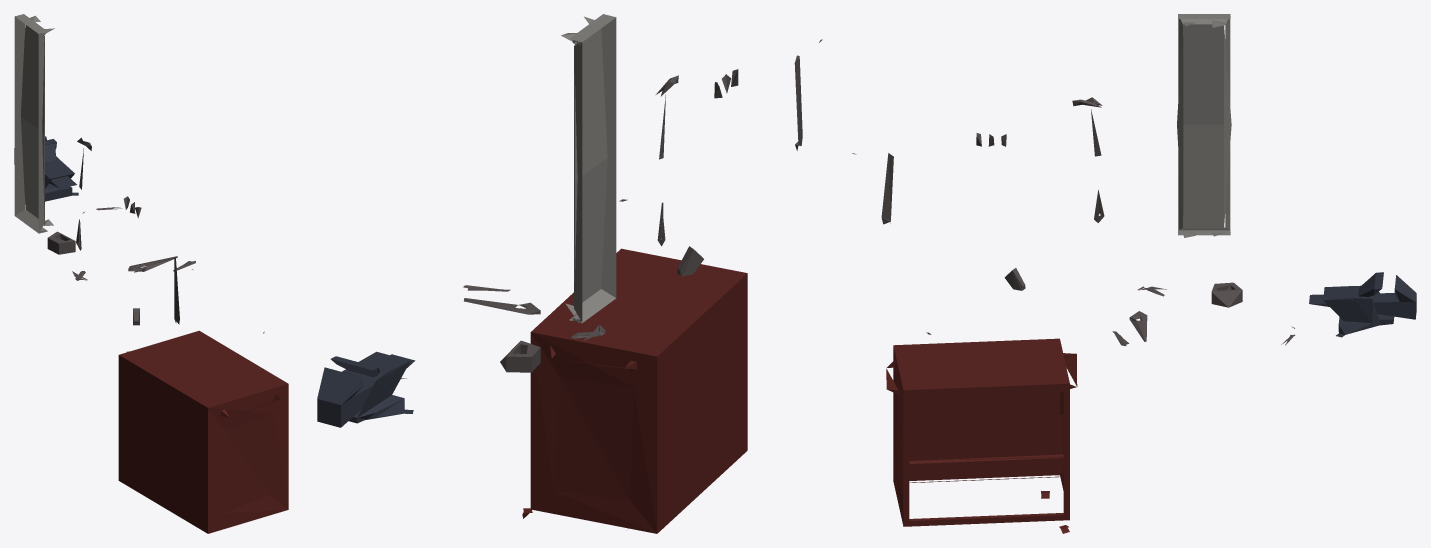
File: workbench.lod1.glb
3 renders of one model, left to right at view 1: azimuth 30°, elevation 25°; view 2: azimuth 150°, elevation 25°; view 3: azimuth 270°, elevation 25°, orthographic. The views are drawn at different scales.
Parts seen in each view (by area): view 1: Light_Fixture_Base_low_Mat_Light_Fixture_0; view 2: Light_Fixture_Base_low_Mat_Light_Fixture_0; view 3: Light_Fixture_Base_low_Mat_Light_Fixture_0.
Part boxes in pixels (x1,y1,x2,y2): Light_Fixture_Base_low_Mat_Light_Fixture_0: (14,14,288,533); Light_Fixture_Base_low_Mat_Light_Fixture_0: (317,14,822,533); Light_Fixture_Base_low_Mat_Light_Fixture_0: (852,14,1416,533).
Size of the model in its own units: 0.6296 by 1.9 by 2.14.
